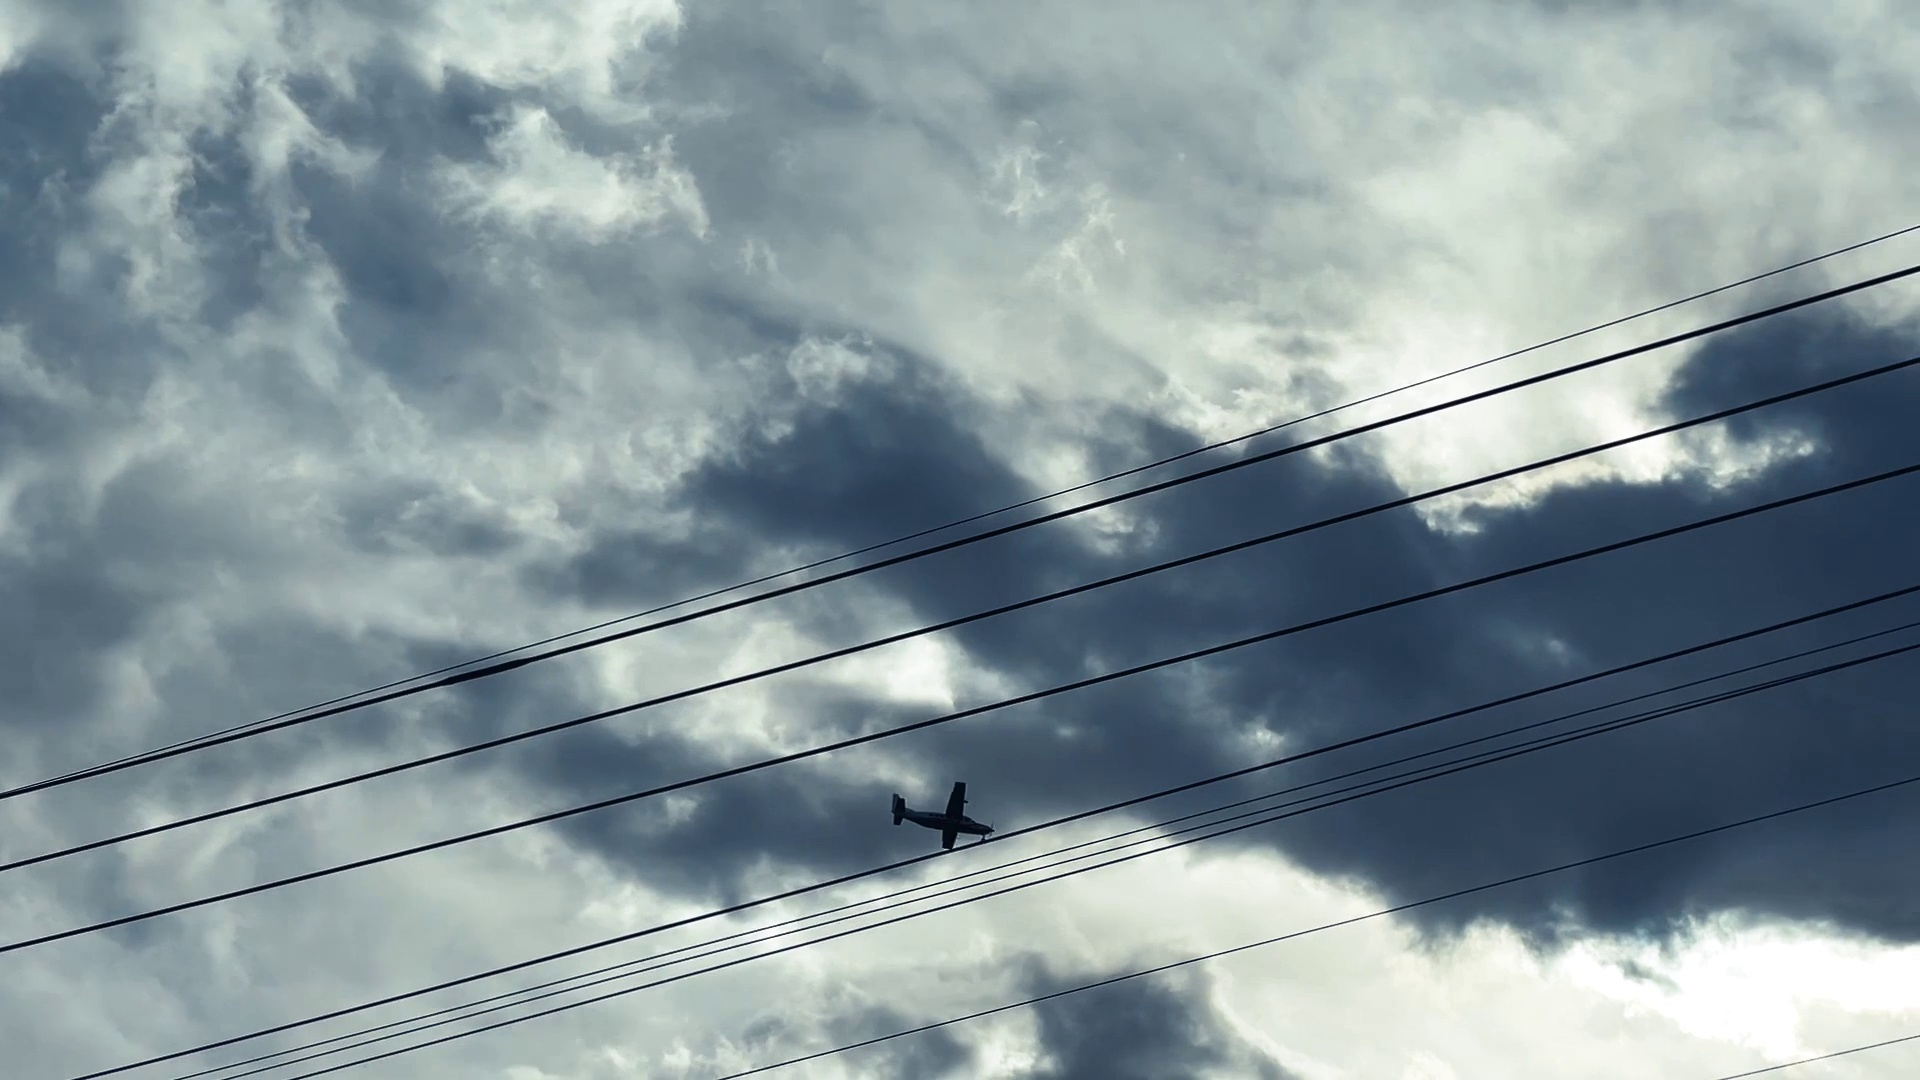plane: (890, 781, 996, 851)
